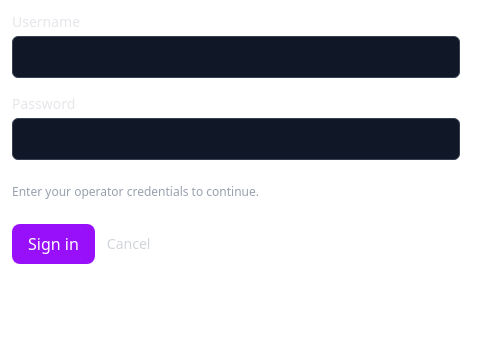
Test: LoginForm › shows success on valid login
Type "operator" into the field labelled "Username" at [236, 57], box [12,36,460,78]
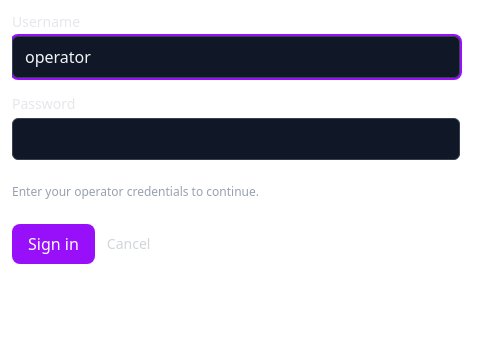
Type "secret" into the password field labelled "Password" at [236, 139], box [12,118,460,160]
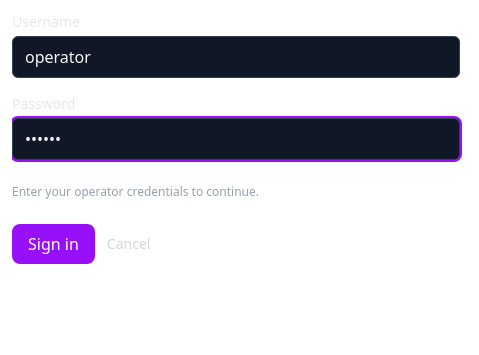
Click the button "Sign in" at [53, 244], box [12,224,95,264]
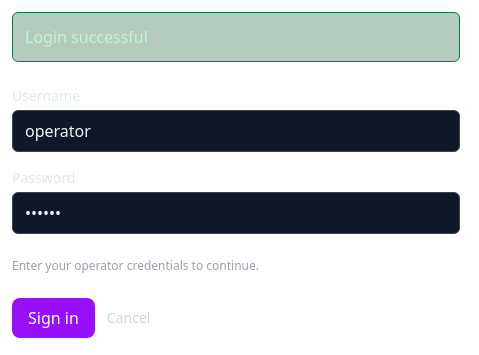
expect the message reads "Login successful": met, box [25,26,148,48]
